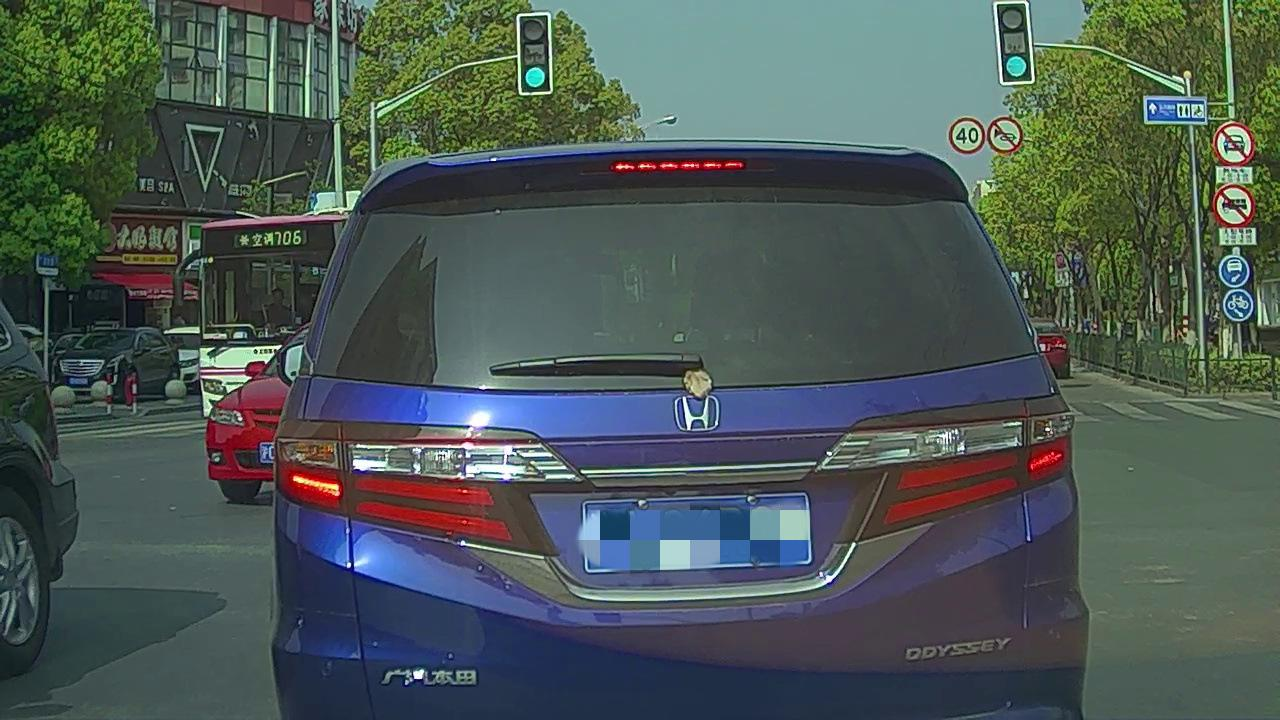traffic_light: (996, 6, 1035, 84), (518, 13, 551, 94)
